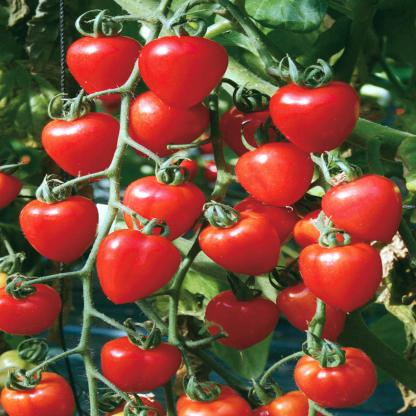---: (132, 34, 243, 115), (270, 67, 367, 159), (289, 237, 399, 314), (86, 226, 188, 305), (48, 28, 144, 107), (14, 189, 104, 273), (114, 168, 209, 245), (199, 204, 284, 286), (314, 174, 412, 244), (221, 141, 320, 210), (291, 341, 379, 416), (98, 328, 189, 399), (204, 286, 292, 357), (38, 107, 126, 176), (0, 276, 75, 337)
